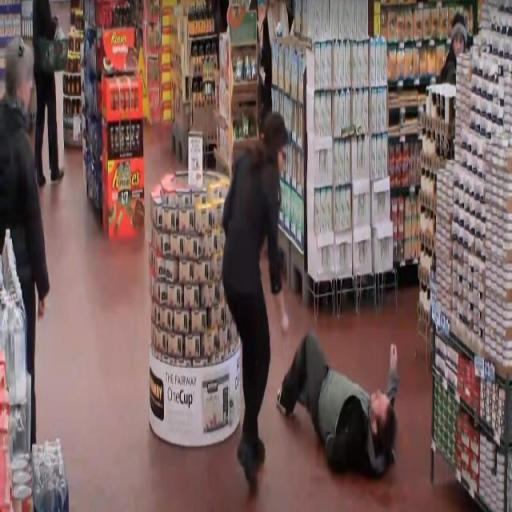Fall: (275, 324, 401, 478)
